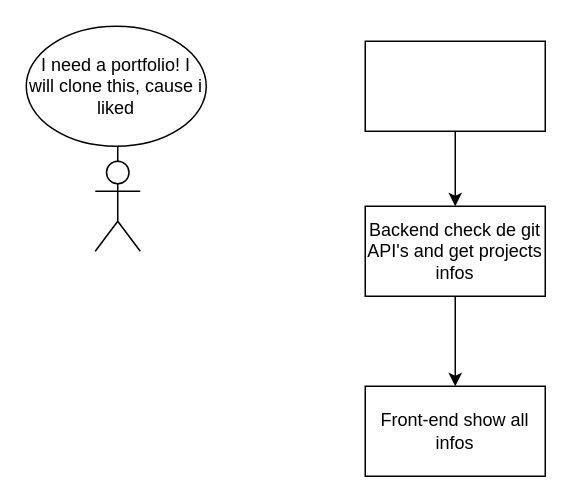
This 572x503 diagram has some shape labels left out. Each missing label, with the centre of its shape:
"Actor" belongs at point 117,205.
"Pre-set infos by coding" belongs at point 454,85.
